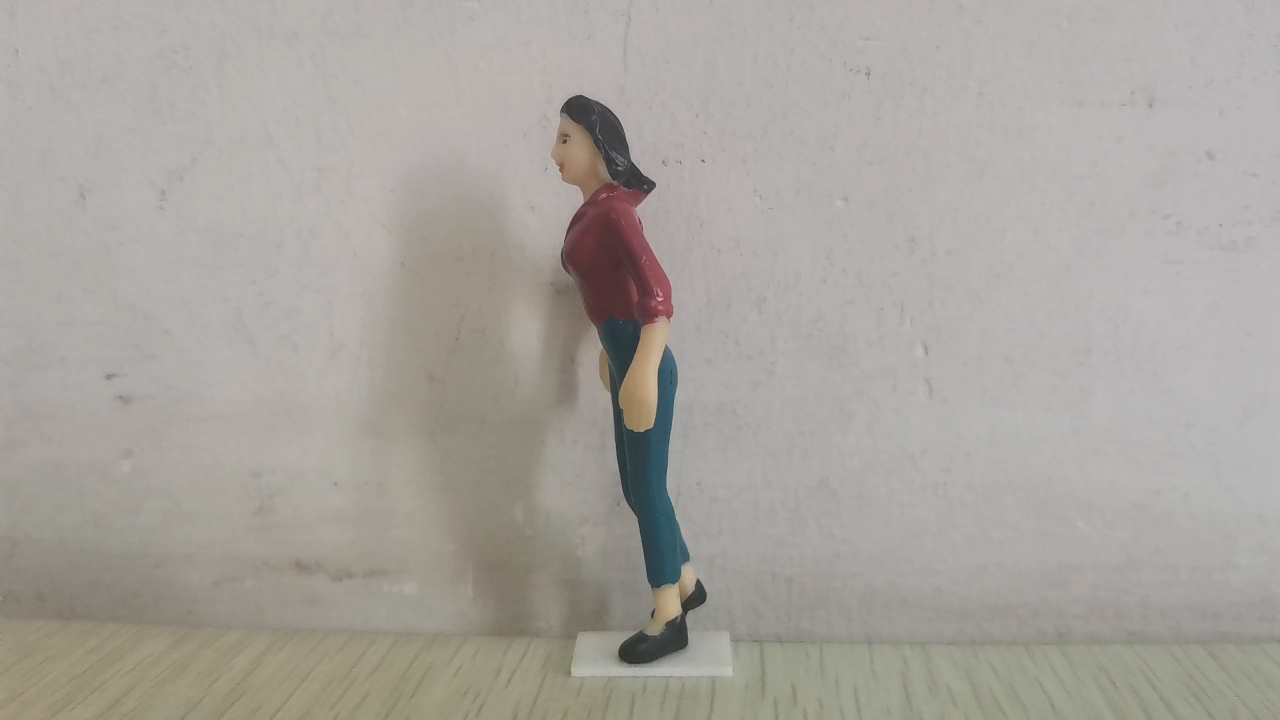person: (547, 93, 714, 666)
